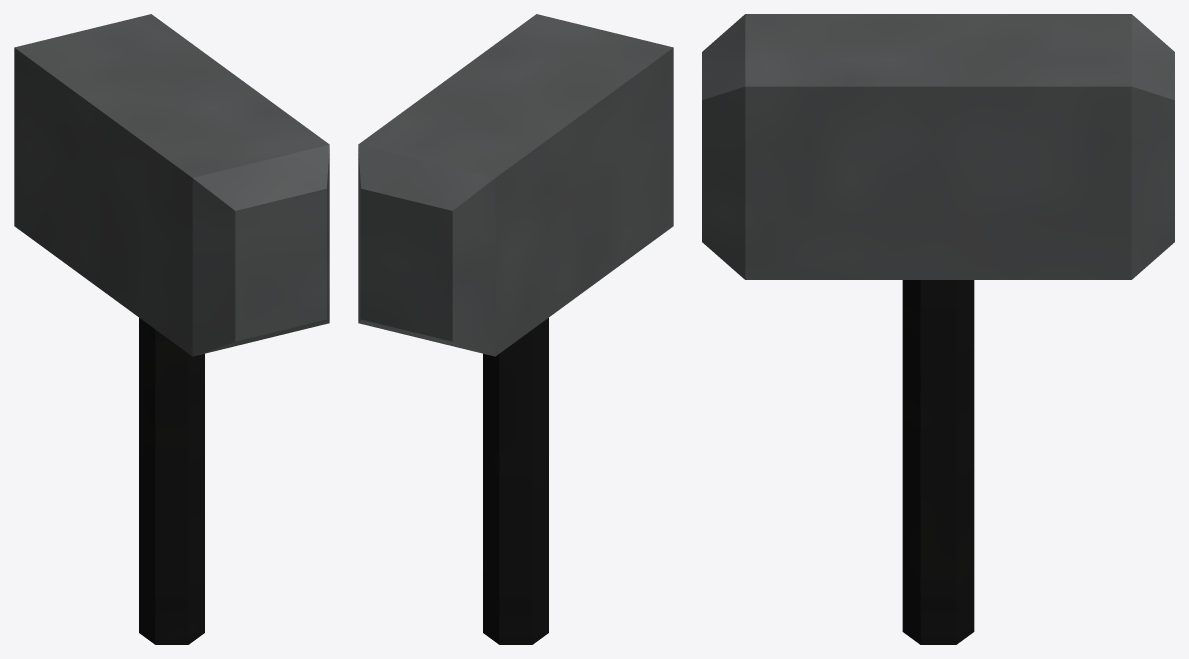
Rendered from hammer.fbx.
The picture shows the model from 3 angles, left to right: view 1: azimuth 30°, elevation 25°; view 2: azimuth 150°, elevation 25°; view 3: azimuth 270°, elevation 25°; orthographic projection. The views are drawn at different scales.
Visible parts, largest first — view 1: hammer; view 2: hammer; view 3: hammer.
Boxes of the visible parts, x1=… form: hammer: x1=14, y1=14, x2=329, y2=644; hammer: x1=358, y1=14, x2=673, y2=644; hammer: x1=702, y1=14, x2=1174, y2=644.
Bounding box in the file's own units: 0.1421 × 0.5315 × 0.3917.
